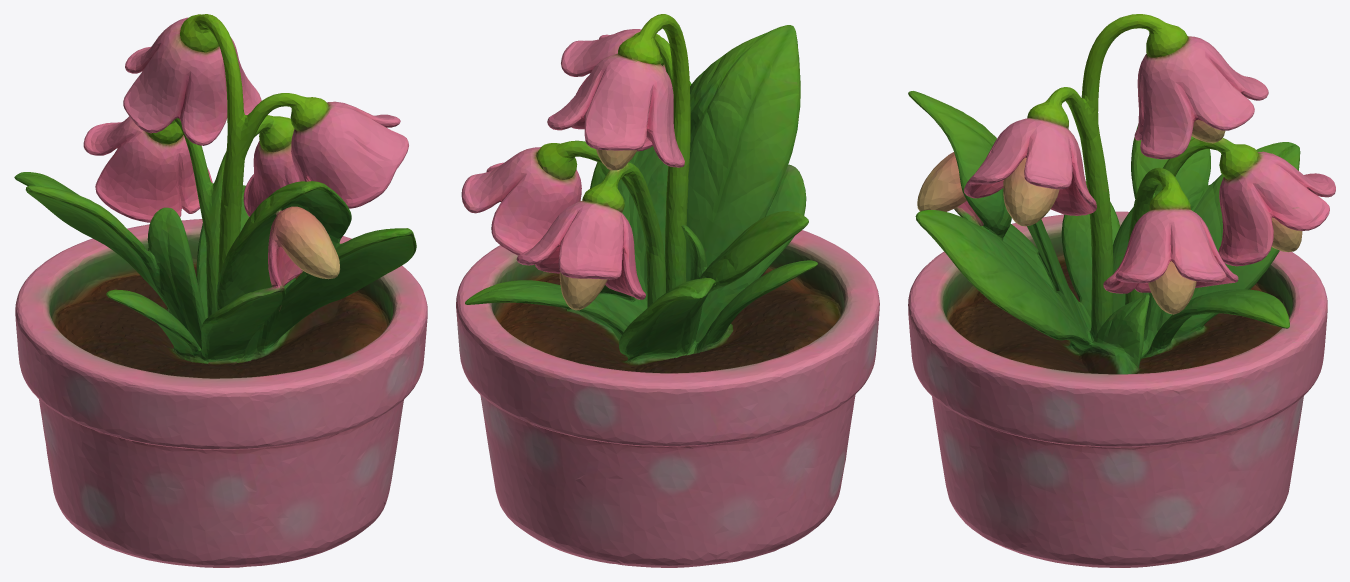
File: flower_7.glb
3 views of the same model, side by side, from view 1: azimuth 30°, elevation 25°; view 2: azimuth 150°, elevation 25°; view 3: azimuth 270°, elevation 25° (orthographic). The views are drawn at different scales.
Parts seen in each view (by area): view 1: tripo_node_fac1048a-b3c2-47fc-8066-866bae16cfc6; view 2: tripo_node_fac1048a-b3c2-47fc-8066-866bae16cfc6; view 3: tripo_node_fac1048a-b3c2-47fc-8066-866bae16cfc6.
Boxes of the visible parts, box(x1,y1,x2,y2) form: tripo_node_fac1048a-b3c2-47fc-8066-866bae16cfc6: box(14, 14, 427, 567); tripo_node_fac1048a-b3c2-47fc-8066-866bae16cfc6: box(456, 14, 879, 567); tripo_node_fac1048a-b3c2-47fc-8066-866bae16cfc6: box(908, 14, 1335, 567).
Bounding box in the file's own units: 0.7784 × 0.9994 × 0.7934.
1 material, 1 textured.
